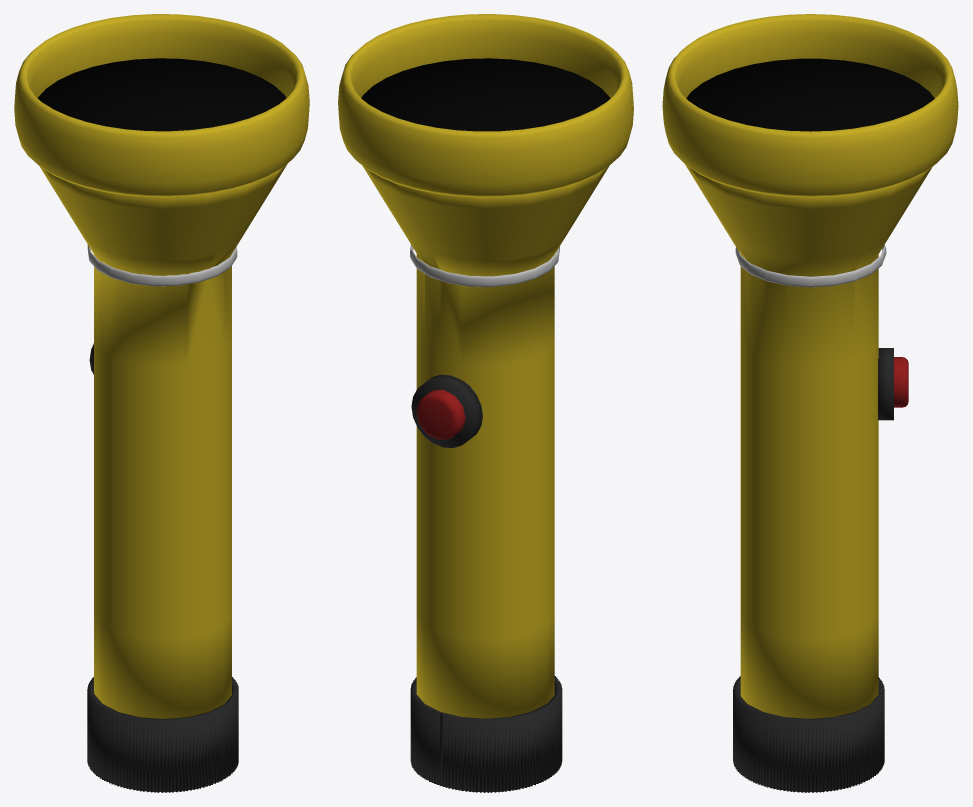
The model's file is flashlight2.obj.
3 renders of one model, left to right at view 1: azimuth 30°, elevation 25°; view 2: azimuth 150°, elevation 25°; view 3: azimuth 270°, elevation 25°, orthographic.
Parts seen in each view (by area): view 1: Cylinder01.001; view 2: Cylinder01.001; view 3: Cylinder01.001.
Part boxes in pixels (bbox=[...]): Cylinder01.001: bbox=[14, 14, 309, 792]; Cylinder01.001: bbox=[338, 14, 633, 792]; Cylinder01.001: bbox=[662, 14, 958, 792].
Bounding box in the file's own units: 0.62 × 1.59 × 0.62.
